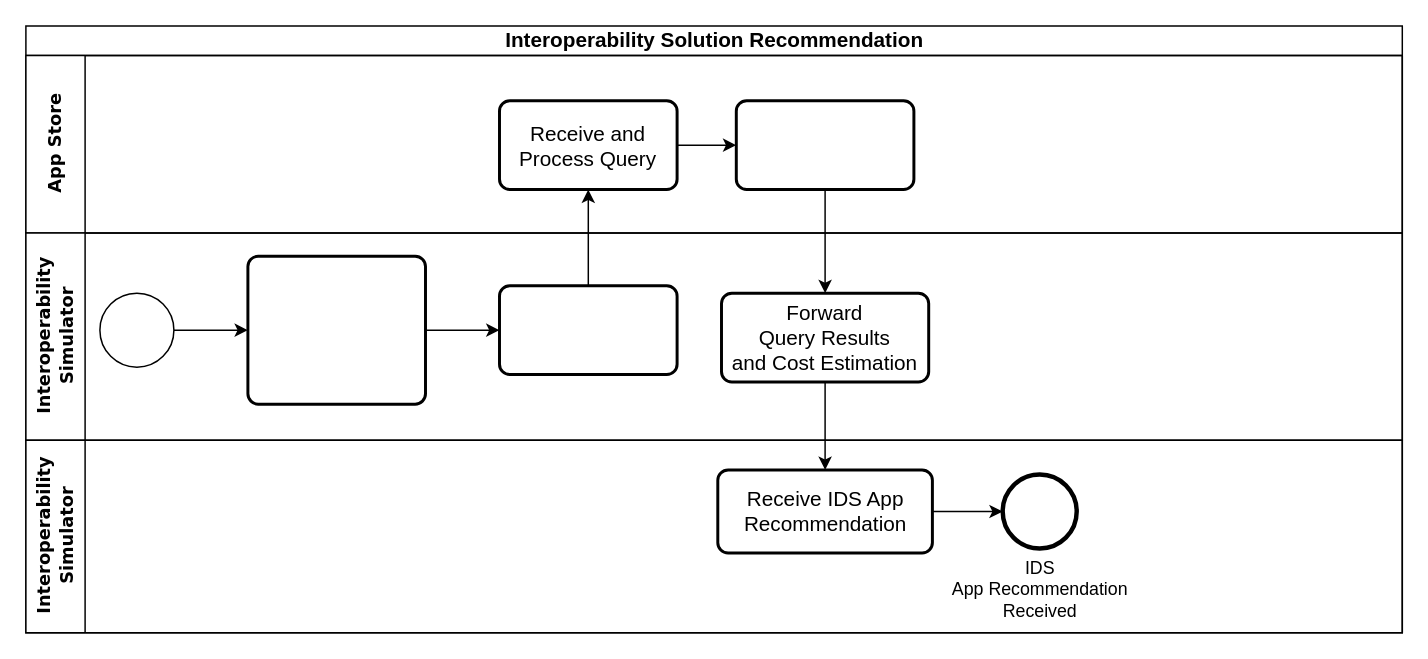
The diagram is 1428 pixels wide and 659 high, and some of its shapes have lost their labels. The shapes that lost their labels are listed below. From the top down, each one's box as (x1, y1, x2, y2) in pixels, then its label:
(734, 99, 915, 190): Return Query Results
(98, 292, 174, 367): Start
(246, 254, 426, 405): Convert Interoperability Assessment Results to Search Query
(497, 284, 678, 375): Send Query to App Store
